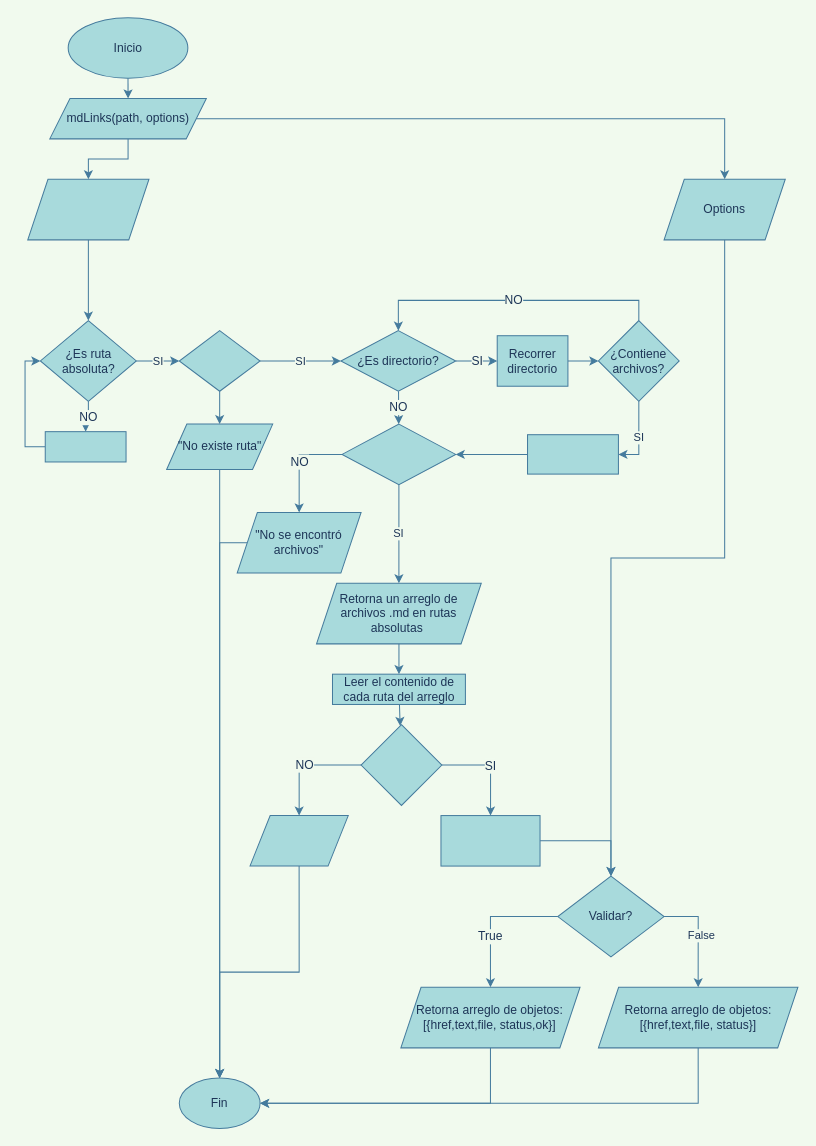
Image size: 816x1146. Some labels were removed from this diagram. The centre of each missing label's shape, as x and y in pixels:
"No contiene links": point (298, 840)
Almacenar link en array: point (490, 840)
Convertir a ruta absoluta: point (85, 446)
Path: point (88, 209)
Recorrer archivos: point (572, 454)
¿Archivo md?: point (398, 454)
¿Contiene links?: point (401, 764)
¿Existe?: point (219, 360)
